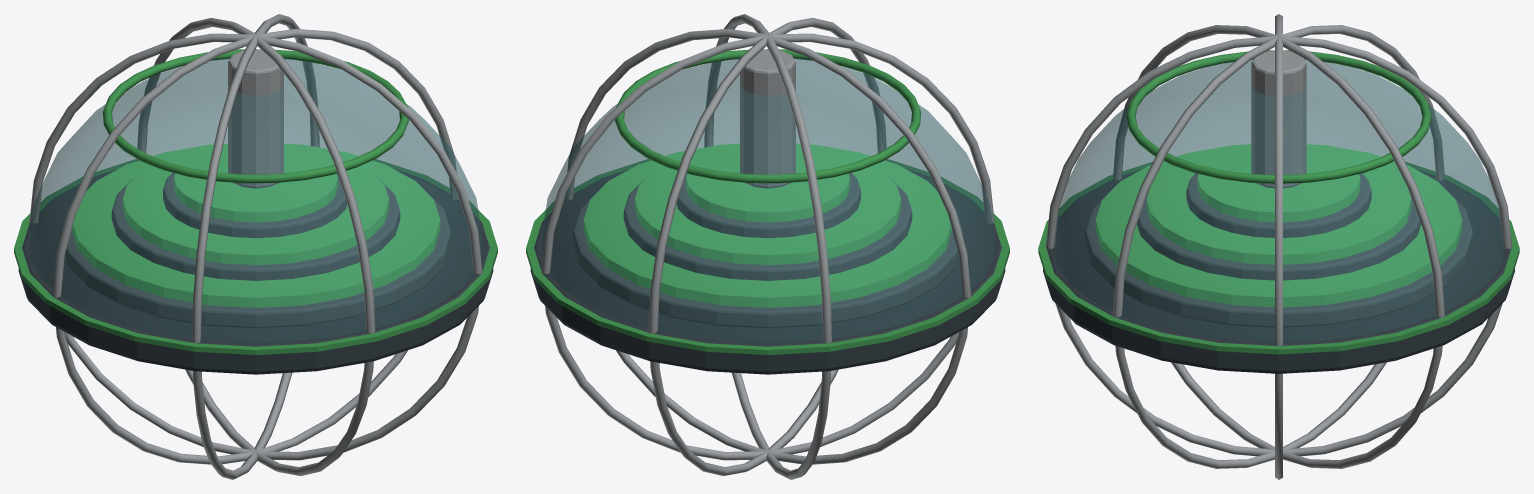
Rendered from agriculture_dome.fbx.
3 views of the same model, side by side, from view 1: azimuth 30°, elevation 25°; view 2: azimuth 150°, elevation 25°; view 3: azimuth 270°, elevation 25° (orthographic).
Visible parts, largest first — view 1: agriculture_dome, ANIM_pulse_0.35__growlight; view 2: agriculture_dome, ANIM_pulse_0.35__growlight; view 3: agriculture_dome, ANIM_pulse_0.35__growlight.
Boxes of the visible parts, box(x1,y1,x2,y2) form: agriculture_dome: box(14, 14, 497, 479); ANIM_pulse_0.35__growlight: box(102, 49, 409, 183); agriculture_dome: box(526, 14, 1009, 479); ANIM_pulse_0.35__growlight: box(614, 49, 921, 183); agriculture_dome: box(1038, 14, 1519, 479); ANIM_pulse_0.35__growlight: box(1126, 50, 1431, 183).
Size of the model in its own units: 5.2 by 5.04 by 5.2.
